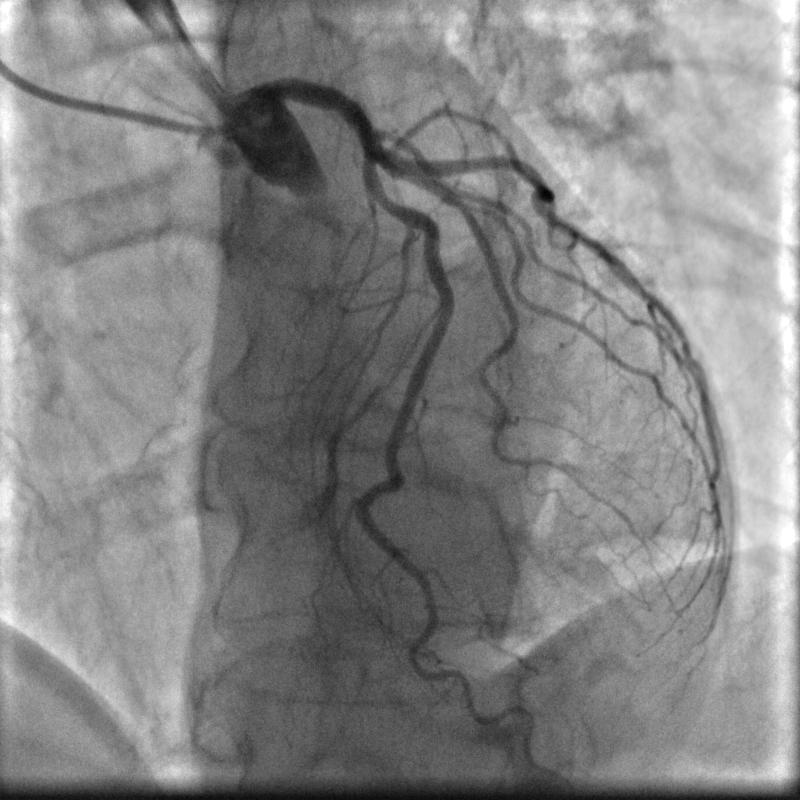Stenosis: (370, 183, 404, 214)
